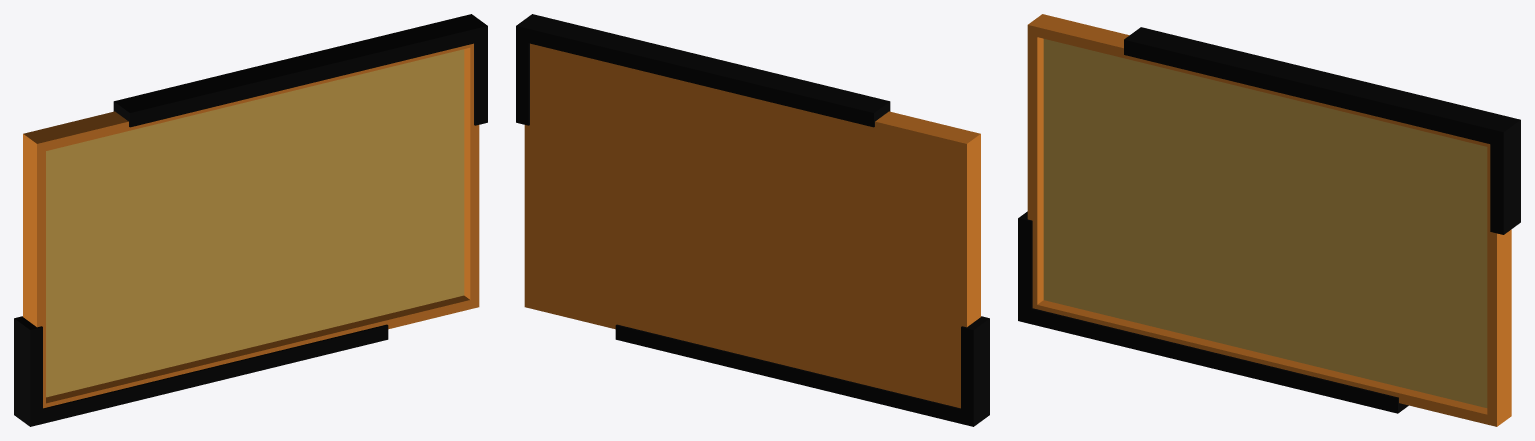
The model's file is Picture Frame 4.fbx.
The picture shows the model from 3 angles, left to right: view 1: azimuth 30°, elevation 25°; view 2: azimuth 150°, elevation 25°; view 3: azimuth 330°, elevation 25°; orthographic projection. The views are drawn at different scales.
Parts seen in each view (by area): view 1: Node 0; view 2: Node 0; view 3: Node 0.
Boxes of the visible parts, x1,y1,x2,y2 form: Node 0: (14, 14, 487, 426); Node 0: (516, 14, 989, 426); Node 0: (1018, 14, 1520, 426).
Bounding box in the file's own units: 0.0657 × 0.6492 × 1.07.
